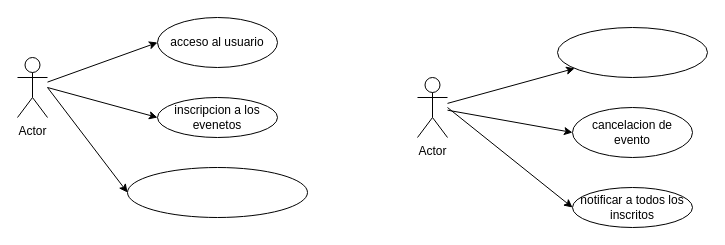
The diagram is 725 pixels wide and 245 high, and some of its shapes have lost their labels. The shapes that lost their labels are listed below. From the top down, each one's centre as x and y in pixels, then its label:
(x=632, y=52): acceso usuario profesor/administrativo
(x=217, y=192): confirmacion inscripcion tras procesarlo y confirmar disponibilidad
